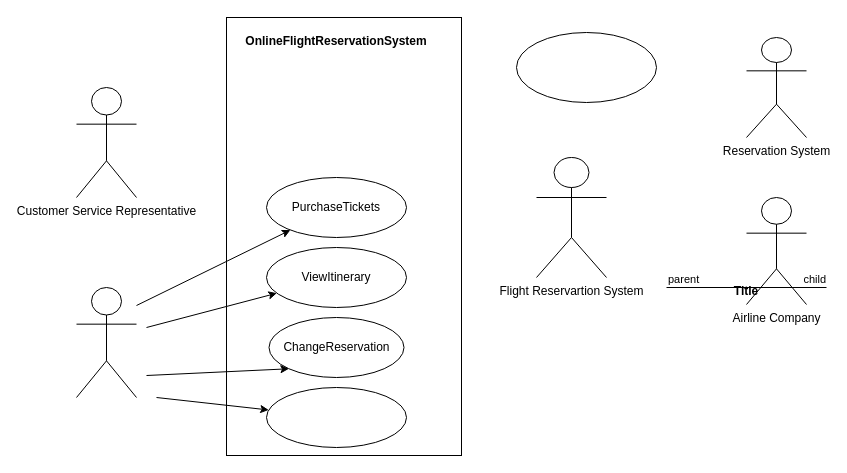
Image size: 847x473. Some labels were removed from this diagram. The shapes that lost their labels are listed below. From the top down, each one's centre as x and y in pixels, then its label:
the point at 586,67: UseOnlineSystem
the point at 106,342: Customer
the point at 336,417: CancelReservation
